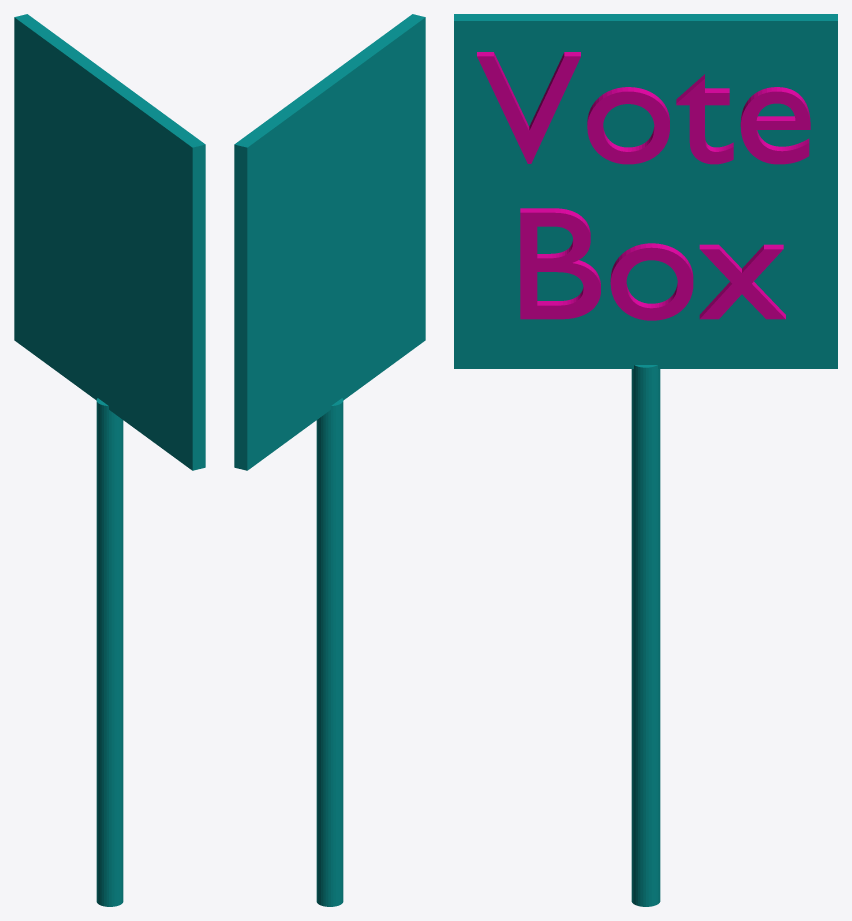
The model's file is Vote Box.glb.
3 renders of one model, left to right at view 1: azimuth 30°, elevation 25°; view 2: azimuth 150°, elevation 25°; view 3: azimuth 270°, elevation 25°, orthographic. The views are drawn at different scales.
Visible parts, largest first — view 1: Cube, Cylinder; view 2: Cube, Cylinder; view 3: Cube, Text, Cylinder.
Part boxes in pixels (box(x1,y1,x2,y2)): Cube: box(14, 14, 205, 470); Cylinder: box(96, 398, 123, 906); Cube: box(234, 14, 425, 470); Cylinder: box(316, 398, 343, 906); Cube: box(454, 14, 837, 368); Text: box(477, 52, 810, 320); Cylinder: box(631, 365, 660, 906).
Size of the model in its own units: 0.0663 by 1.94 by 0.7641.
